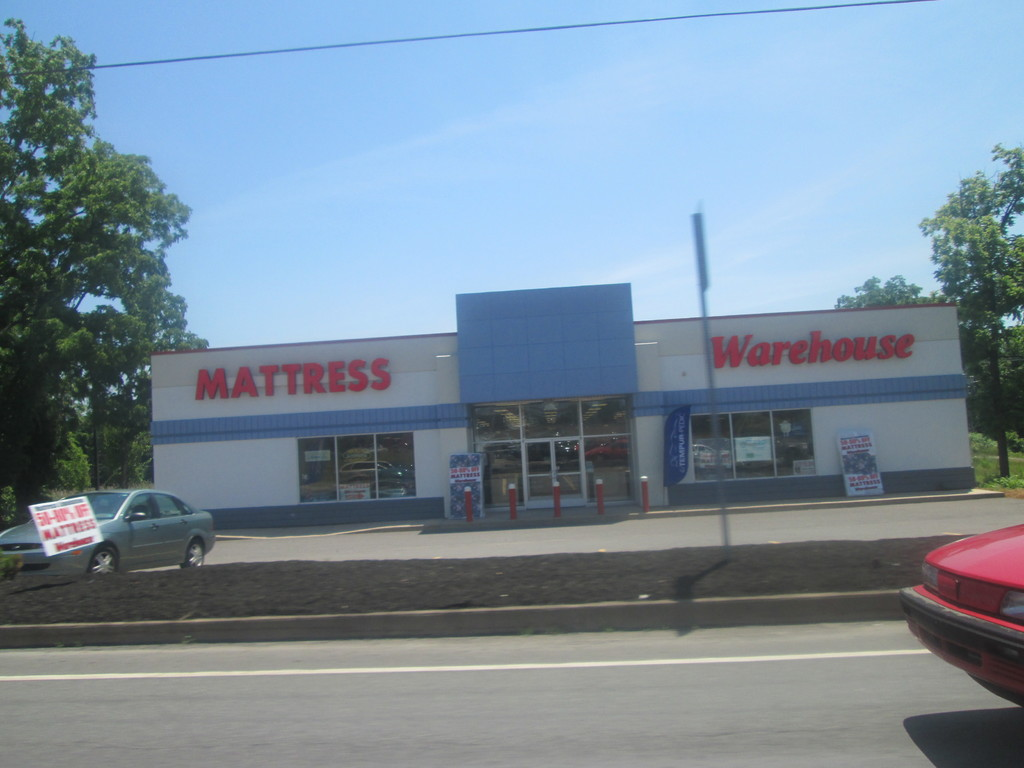Car: (893, 526, 1023, 705), (0, 488, 210, 576)
